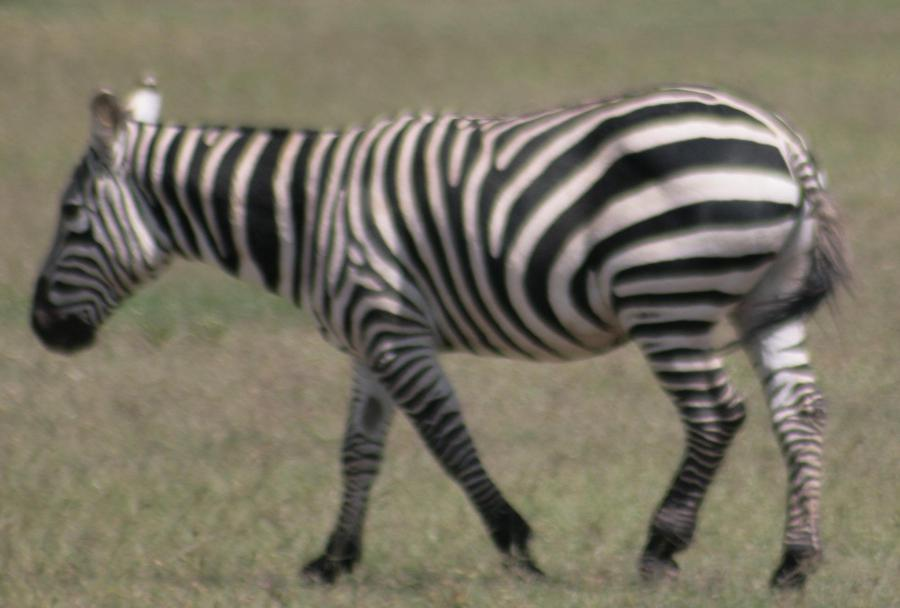zebra_plains: (270, 95, 754, 388)
